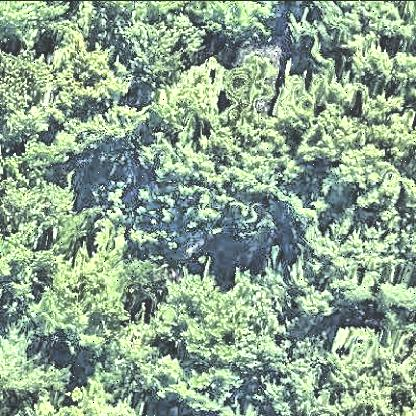tree-top: (162, 257, 294, 383), (146, 119, 298, 207), (305, 87, 413, 190), (33, 243, 129, 346), (296, 216, 396, 310), (3, 162, 87, 256), (328, 323, 412, 413), (47, 97, 143, 167), (119, 6, 208, 78), (1, 44, 61, 140), (53, 39, 131, 110), (2, 328, 68, 410), (154, 58, 228, 124), (52, 376, 154, 416), (193, 1, 285, 45), (340, 30, 398, 89), (1, 1, 69, 45), (145, 354, 189, 408)
